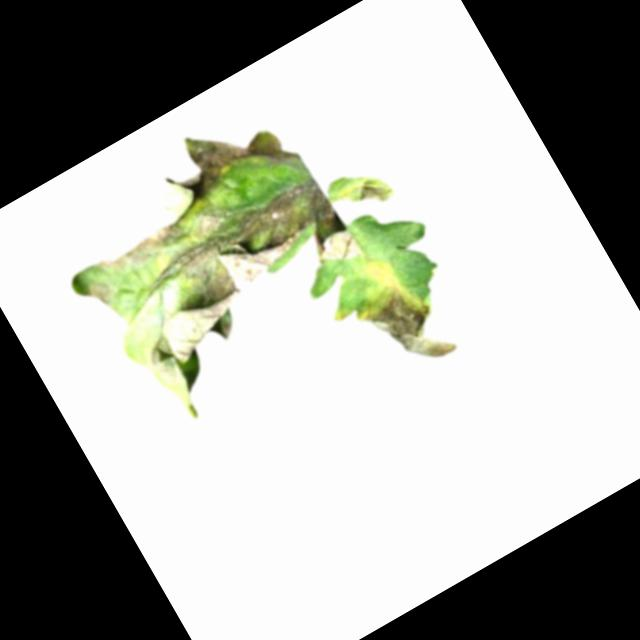Late_blight: (138, 153, 353, 339), (149, 94, 297, 220), (351, 265, 464, 384), (89, 203, 189, 281), (302, 208, 362, 271), (348, 168, 398, 214), (80, 273, 116, 310)
